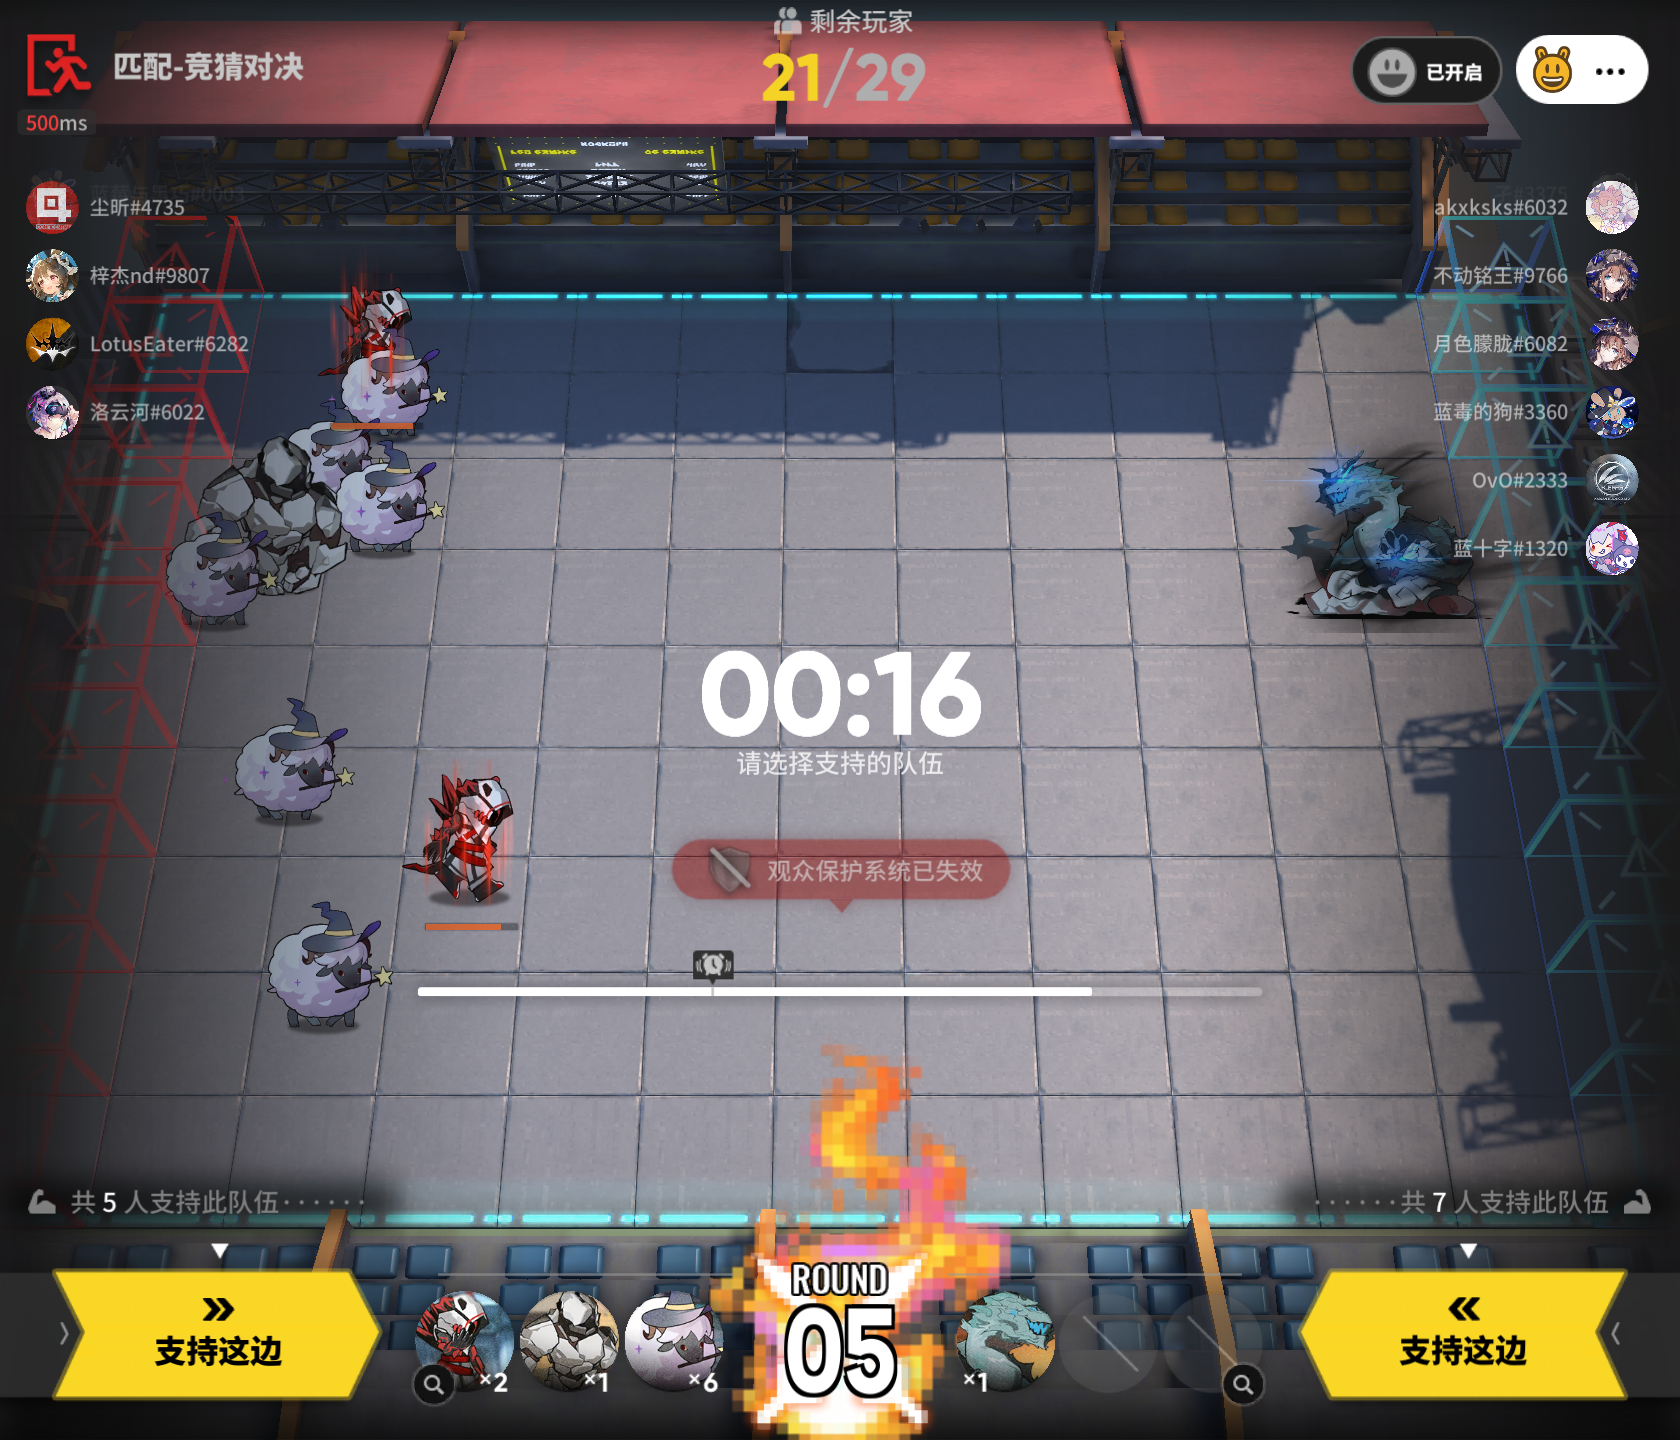“自在”: (1274, 446, 1491, 629), (954, 1291, 1067, 1387)
星星魔法师: (260, 903, 390, 1040), (229, 694, 361, 821), (619, 1289, 730, 1399), (344, 336, 459, 441), (160, 520, 284, 617), (344, 441, 449, 551), (279, 414, 397, 499)
砸人的石头: (191, 427, 346, 594), (521, 1281, 629, 1399)
苦难的具象: (411, 764, 521, 909), (330, 274, 429, 391), (414, 1284, 519, 1391)
